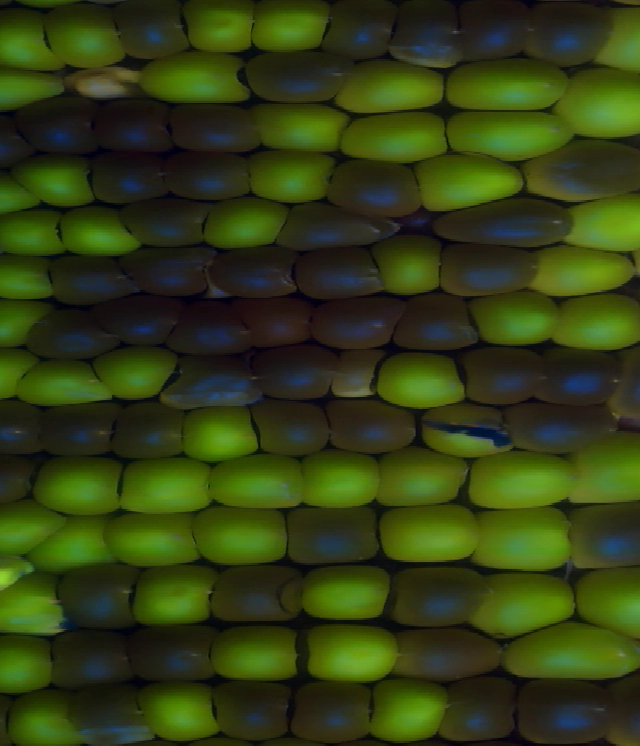fluorescent: (470, 567, 587, 638), (499, 623, 640, 681), (464, 450, 585, 511), (444, 54, 572, 111), (440, 108, 578, 160), (471, 504, 576, 572), (410, 152, 534, 208), (34, 449, 128, 519), (28, 512, 129, 577), (378, 501, 482, 564), (334, 109, 454, 163), (328, 60, 448, 113), (371, 442, 474, 503), (189, 504, 292, 565), (127, 558, 217, 627), (134, 53, 258, 103), (300, 621, 399, 683), (291, 447, 387, 509), (130, 677, 226, 739), (527, 243, 640, 295), (244, 145, 345, 203), (120, 455, 219, 514), (211, 622, 308, 682), (373, 350, 470, 408), (562, 65, 640, 137), (104, 512, 204, 568), (205, 456, 312, 508), (298, 565, 393, 623), (248, 99, 350, 153), (57, 199, 146, 260), (370, 677, 452, 743), (175, 401, 265, 461), (200, 192, 290, 250), (550, 294, 640, 352), (46, 7, 127, 71), (573, 566, 640, 643), (468, 290, 565, 343), (367, 234, 455, 292), (90, 346, 177, 404), (0, 572, 77, 637), (23, 355, 112, 411), (568, 436, 640, 504), (1, 688, 79, 746), (563, 194, 640, 252), (15, 155, 96, 209), (0, 10, 66, 76), (248, 1, 338, 49), (181, 1, 259, 52), (0, 499, 67, 557), (0, 62, 80, 110), (0, 207, 71, 261), (0, 630, 58, 692), (591, 10, 640, 76), (0, 296, 58, 350), (0, 253, 58, 301), (0, 349, 43, 405), (0, 170, 37, 219)
nonfluorescent: (428, 198, 576, 248), (380, 563, 492, 629), (516, 675, 620, 745), (204, 563, 310, 625), (523, 141, 640, 197), (273, 199, 395, 251), (382, 628, 504, 680), (155, 350, 261, 408), (522, 3, 617, 67), (434, 241, 542, 297), (284, 503, 386, 562), (58, 559, 142, 630), (327, 158, 423, 219), (306, 293, 410, 349), (324, 397, 423, 455), (95, 291, 189, 351), (387, 1, 468, 69), (16, 92, 102, 156), (506, 402, 618, 451), (67, 685, 159, 744), (117, 190, 210, 248), (162, 298, 256, 355), (246, 53, 353, 103), (460, 342, 546, 404), (289, 679, 374, 741), (127, 622, 219, 679), (254, 337, 337, 400), (393, 290, 482, 348), (23, 308, 125, 358), (292, 243, 383, 299), (435, 678, 518, 739), (170, 99, 263, 153), (210, 678, 292, 738), (49, 628, 134, 685), (535, 349, 623, 404), (210, 245, 297, 300), (569, 501, 640, 568), (233, 294, 315, 352), (250, 399, 332, 457), (117, 246, 217, 292), (115, 399, 188, 461), (453, 2, 530, 60), (94, 96, 173, 152), (118, 1, 192, 60), (47, 253, 136, 302), (89, 151, 168, 205), (165, 150, 255, 197), (42, 403, 117, 457), (324, 2, 395, 59), (323, 342, 388, 398), (0, 398, 47, 455), (606, 674, 640, 746), (609, 345, 640, 417), (0, 455, 41, 509), (0, 112, 35, 172)
